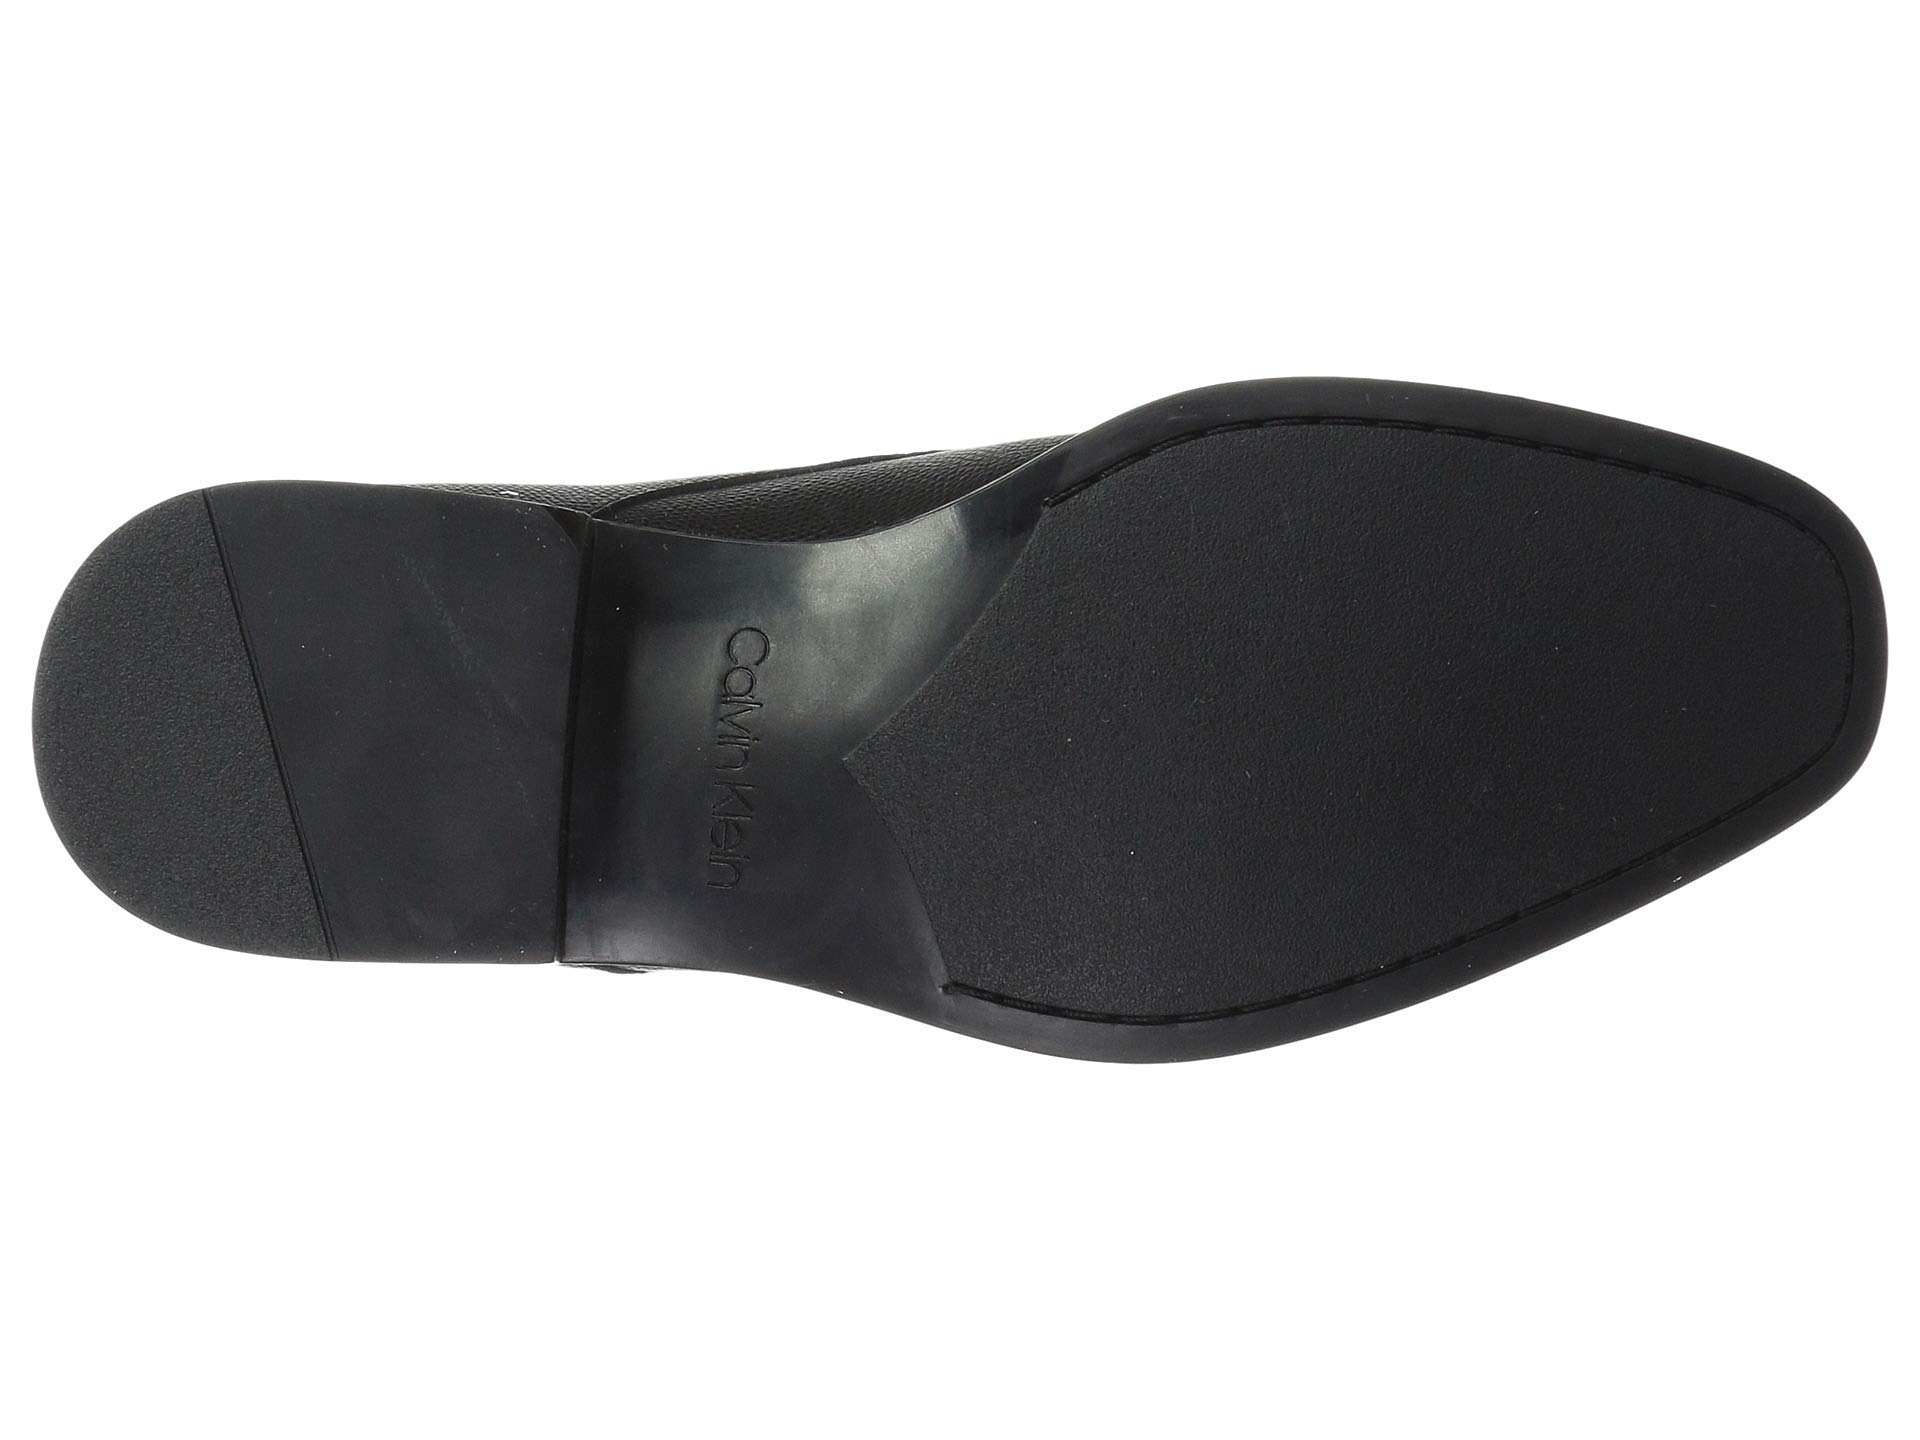exclude: (553, 762, 924, 1023)
line: (132, 538, 414, 858)
